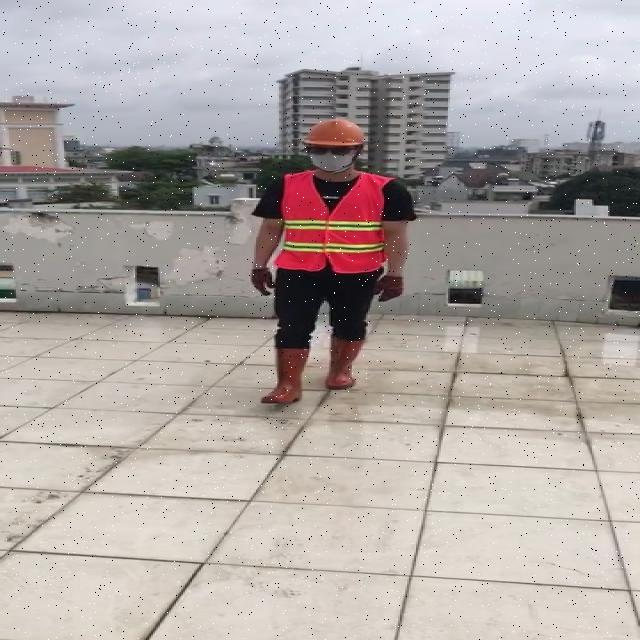Hard_hat: (302, 117, 369, 148)
Vest: (279, 174, 390, 274)
